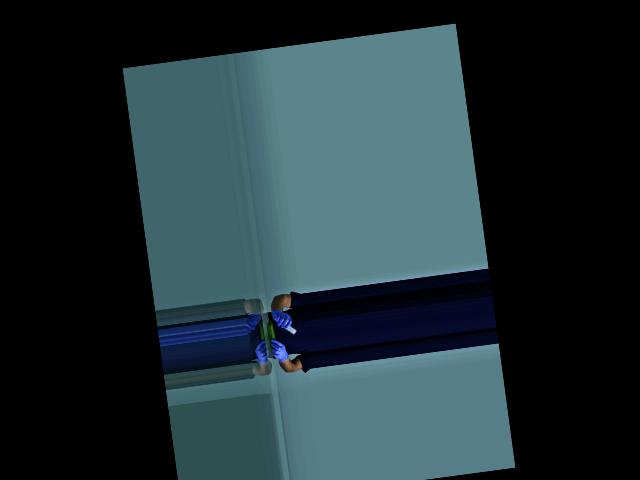cucumber: (265, 320, 276, 348)
